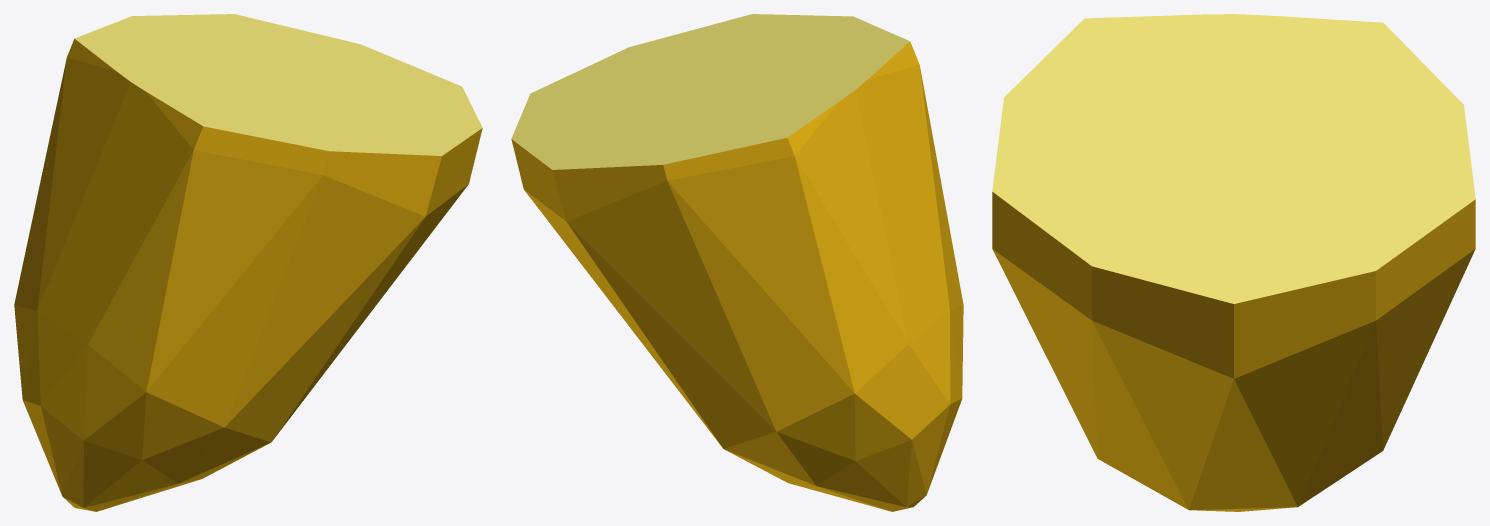
The model's file is BananaQu4.fbx.
3 renders of one model, left to right at view 1: azimuth 30°, elevation 25°; view 2: azimuth 150°, elevation 25°; view 3: azimuth 270°, elevation 25°, orthographic. The views are drawn at different scales.
Visible parts, largest first — view 1: BananaQu4; view 2: BananaQu4; view 3: BananaQu4.
Boxes of the visible parts, left/top/right/bottom form: BananaQu4: left=14, top=14, right=482, bottom=511; BananaQu4: left=511, top=14, right=963, bottom=511; BananaQu4: left=992, top=14, right=1475, bottom=511.
Bounding box in the file's own units: 203 × 190 × 170.
